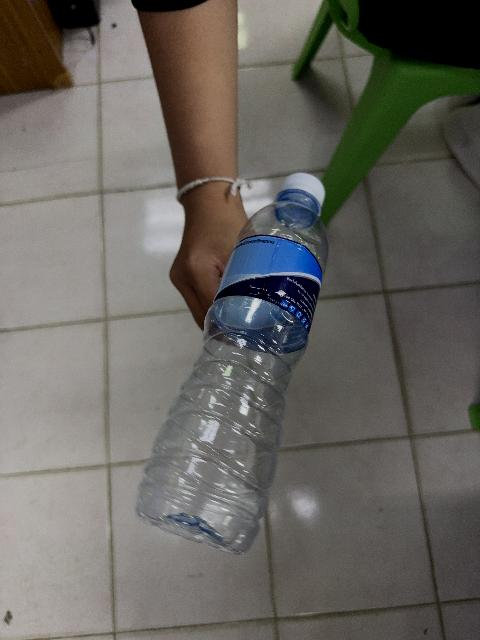bottle: (137, 174, 327, 553)
